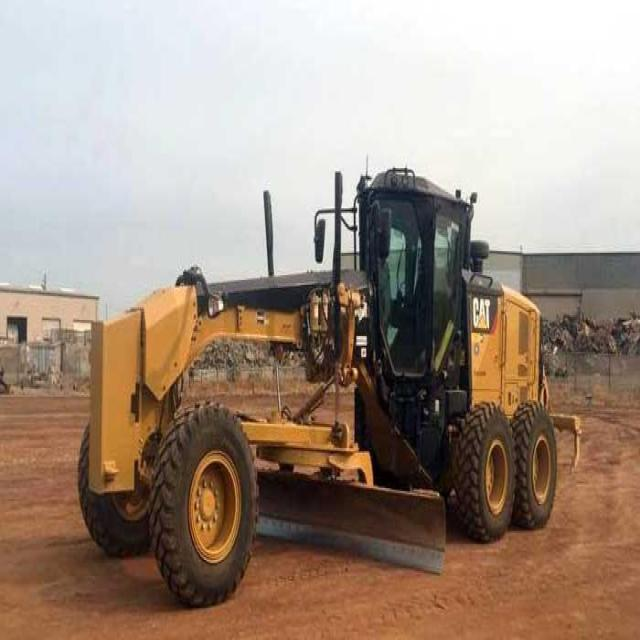buldozerpayloadergrader: (68, 130, 585, 604)
